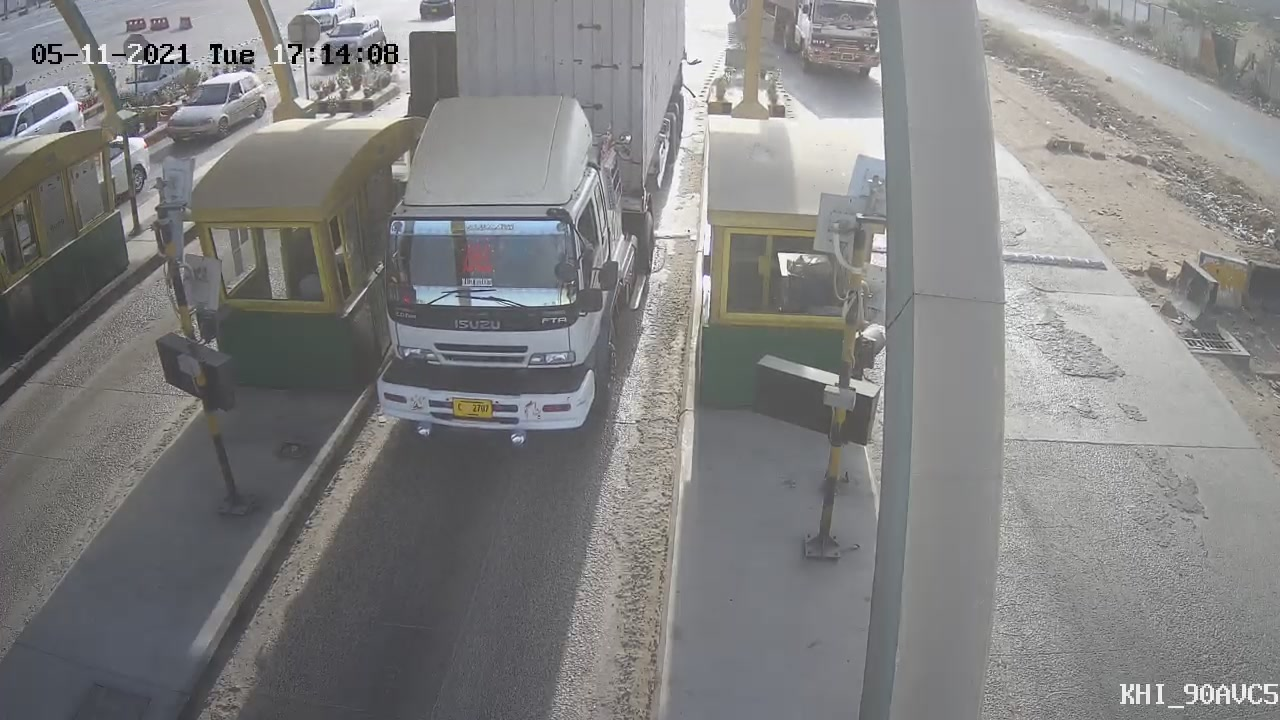F6: (325, 1, 705, 473)
